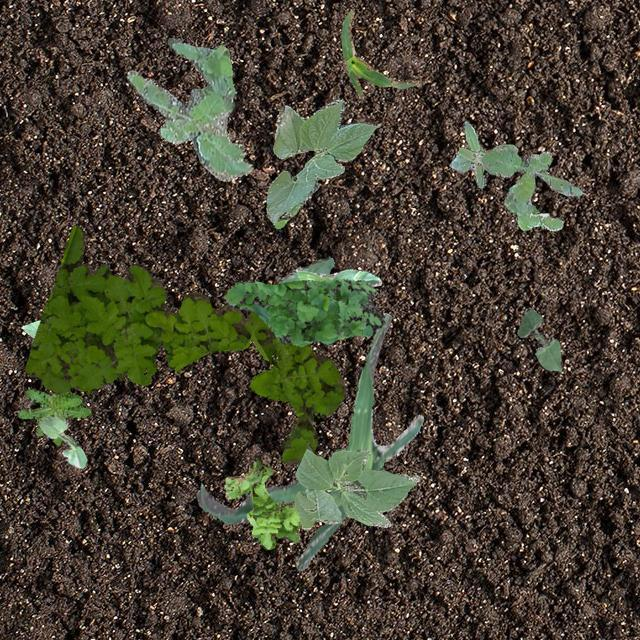crop: (195, 312, 422, 570), (264, 98, 376, 228), (292, 446, 420, 530), (340, 9, 420, 98), (516, 308, 562, 370), (38, 416, 86, 468), (294, 266, 380, 286), (278, 255, 334, 282), (21, 320, 39, 338)
weed: (24, 224, 346, 463), (126, 36, 252, 180), (224, 278, 384, 346), (480, 144, 580, 230), (223, 456, 300, 548), (448, 120, 516, 188), (16, 388, 90, 444)
